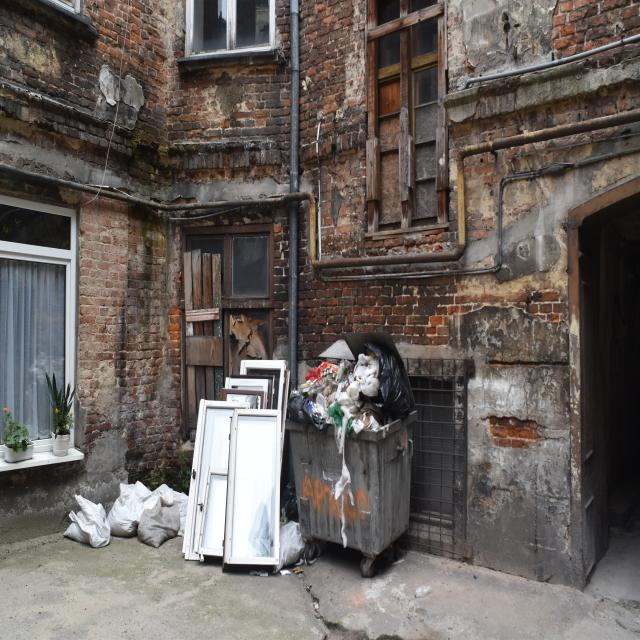entulho: (189, 358, 286, 574), (108, 476, 189, 550), (62, 496, 113, 549), (274, 518, 304, 572)
lixo domiciliar: (290, 352, 412, 434), (281, 477, 305, 519), (414, 582, 431, 601)
